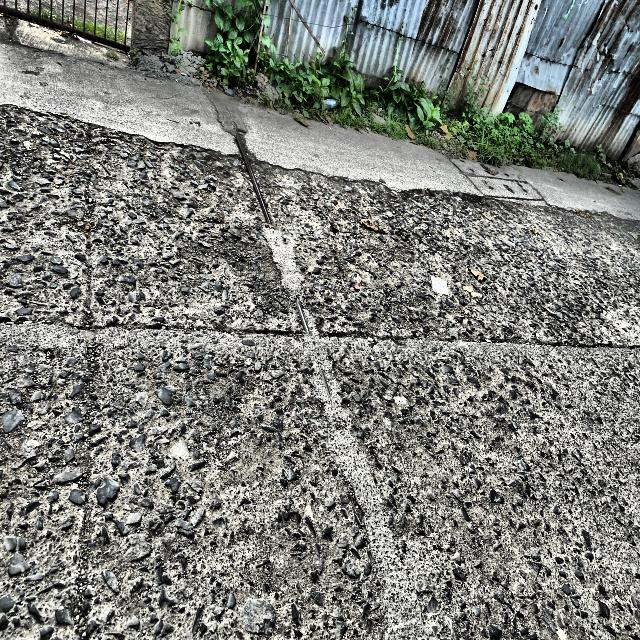major_scaling: (0, 340, 640, 640), (255, 164, 640, 346), (0, 105, 295, 333)
